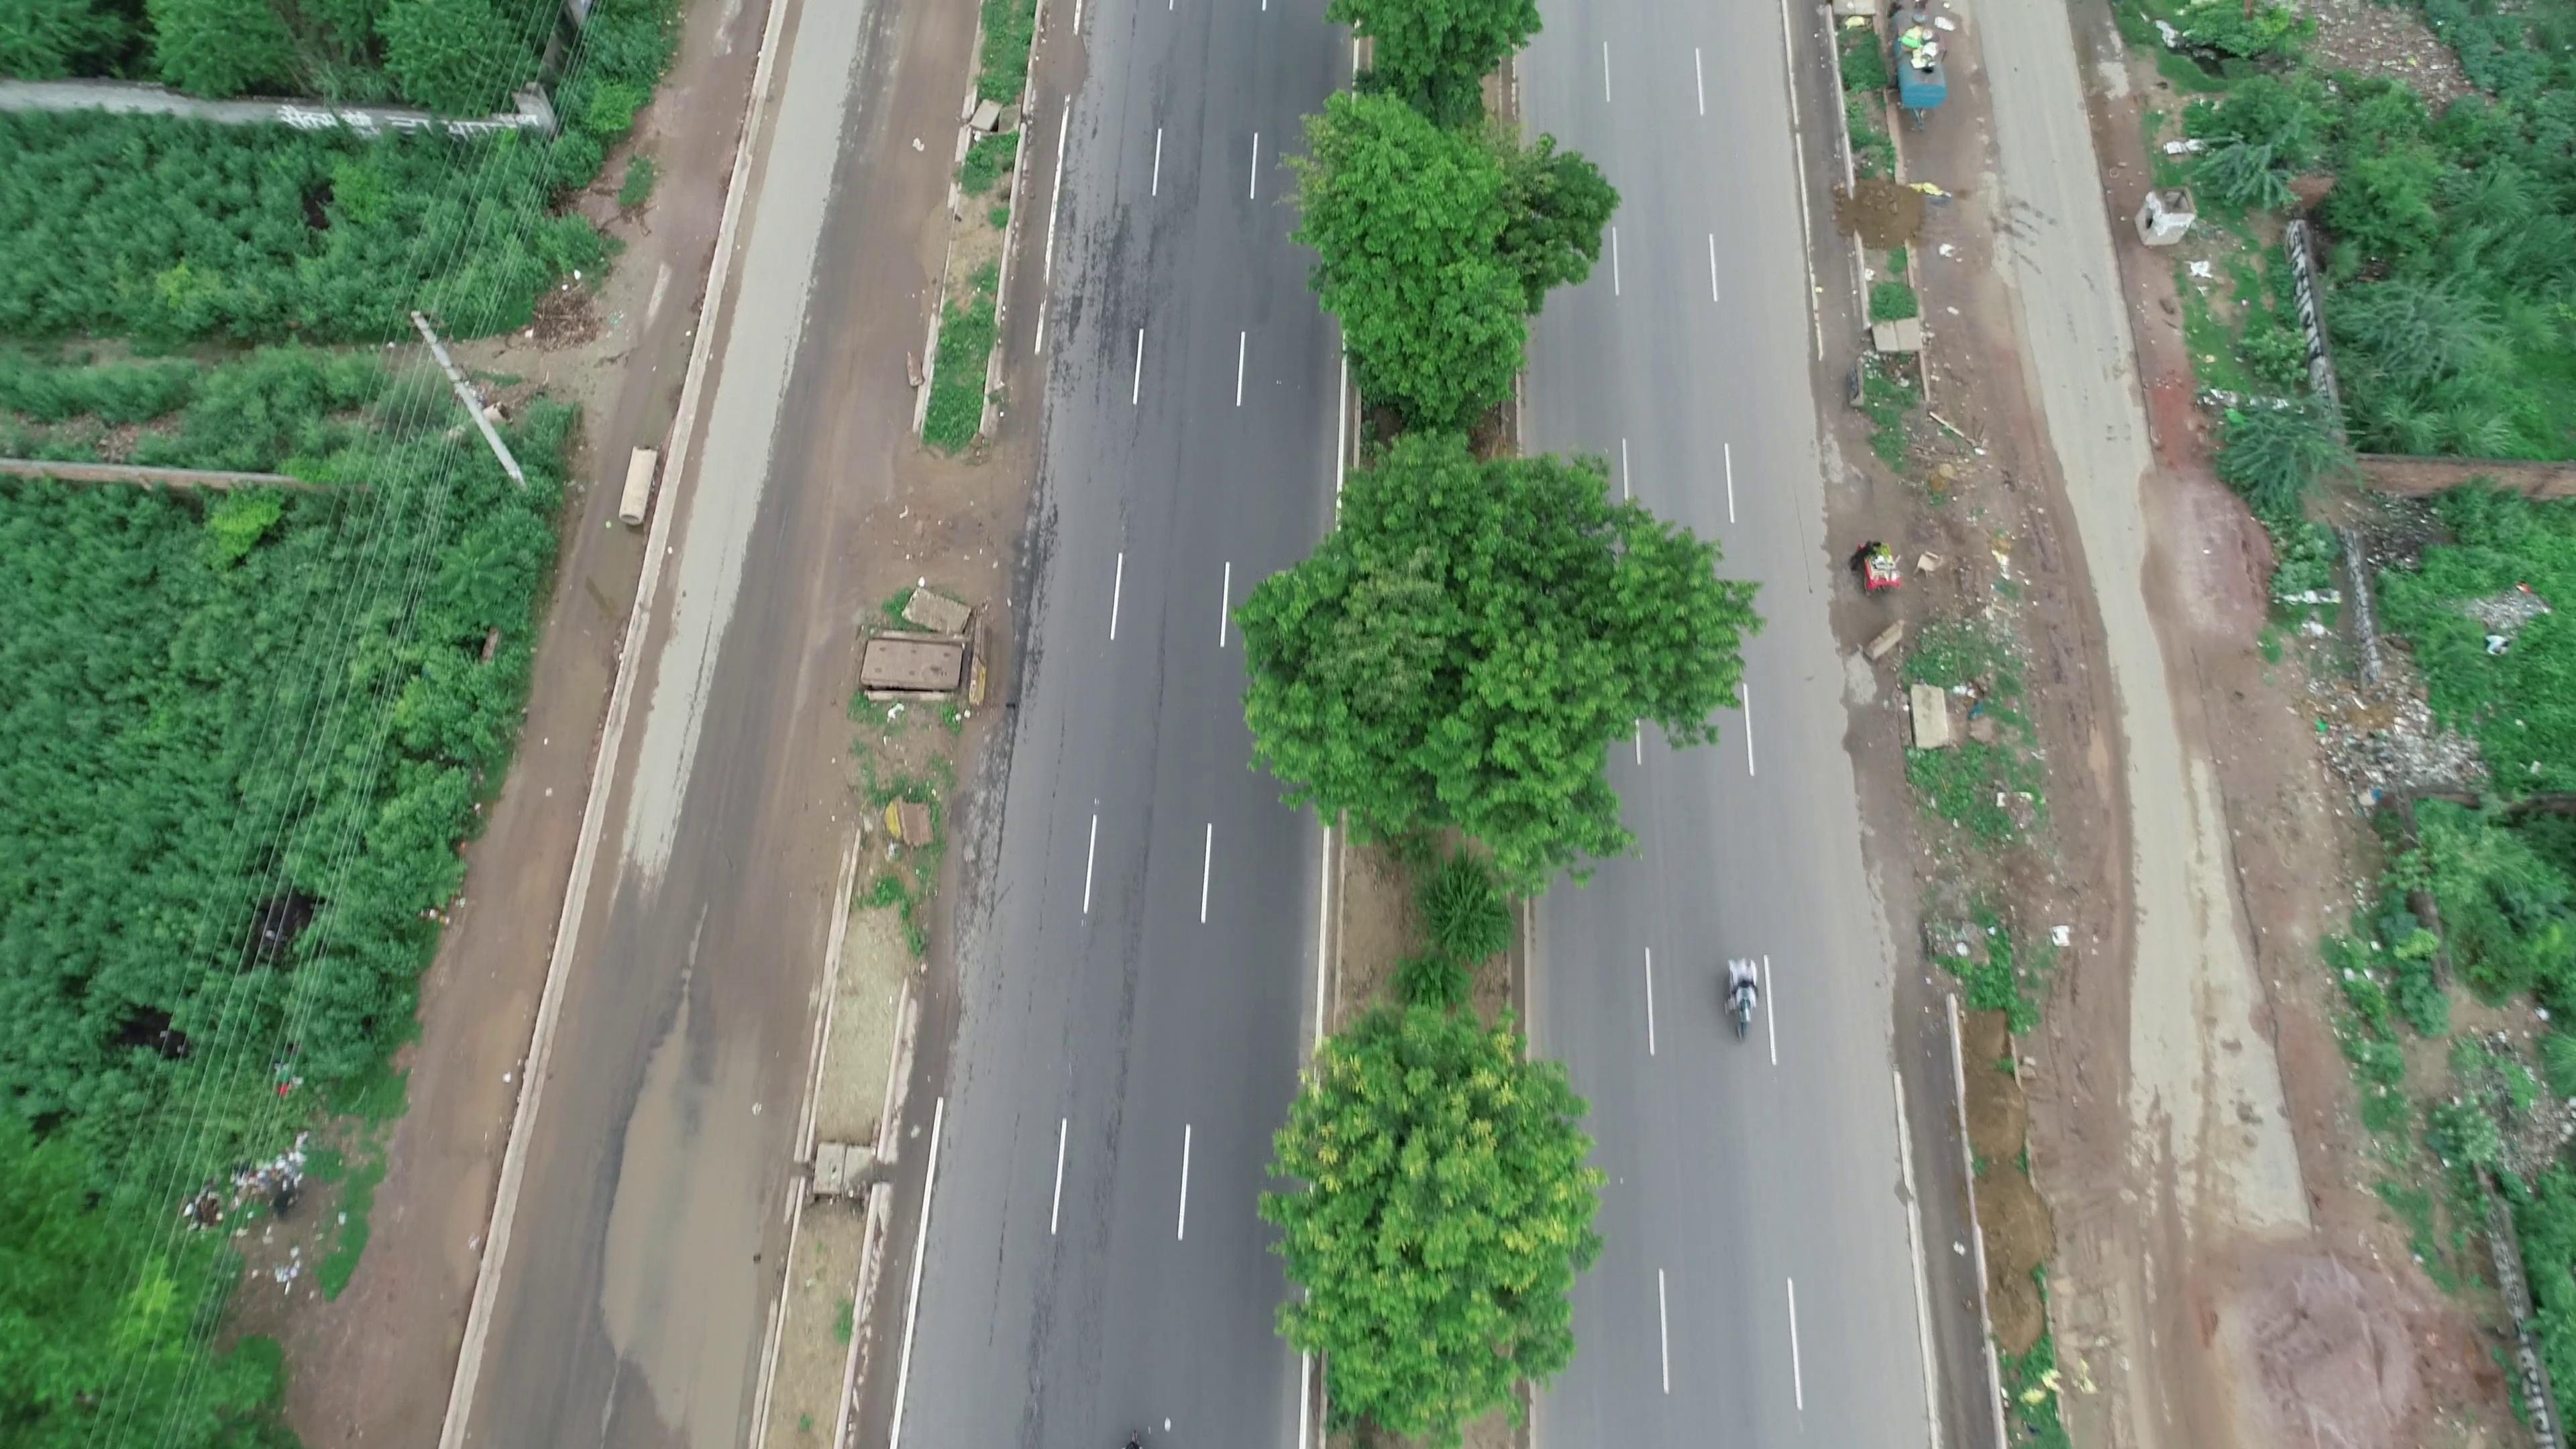Muddy_road: (1990, 421, 2150, 993), (2042, 1072, 2281, 1437), (731, 593, 862, 858)
Ravelling: (1083, 794, 1168, 1187), (1058, 172, 1159, 373)
Waterlogging: (552, 998, 778, 1385)
